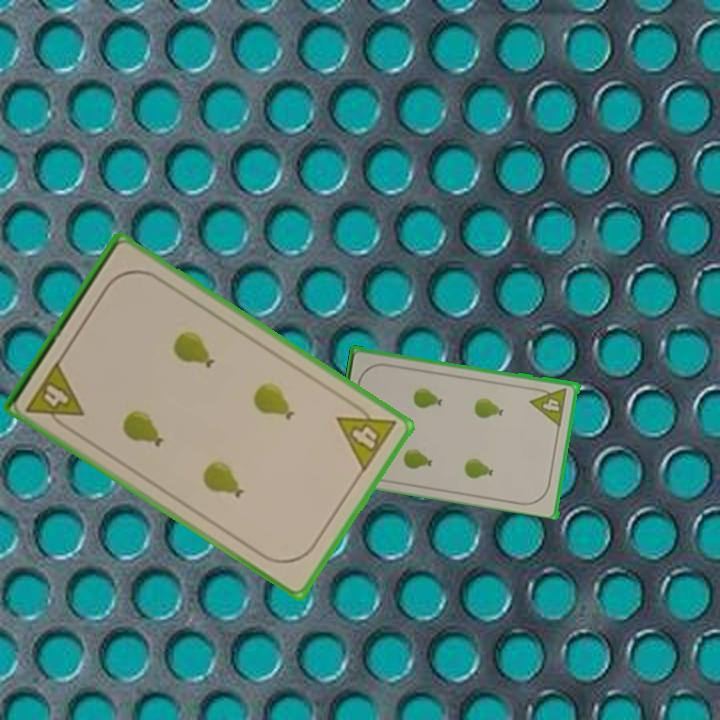4p: (333, 396, 399, 475), (22, 357, 87, 435), (528, 384, 570, 428)
